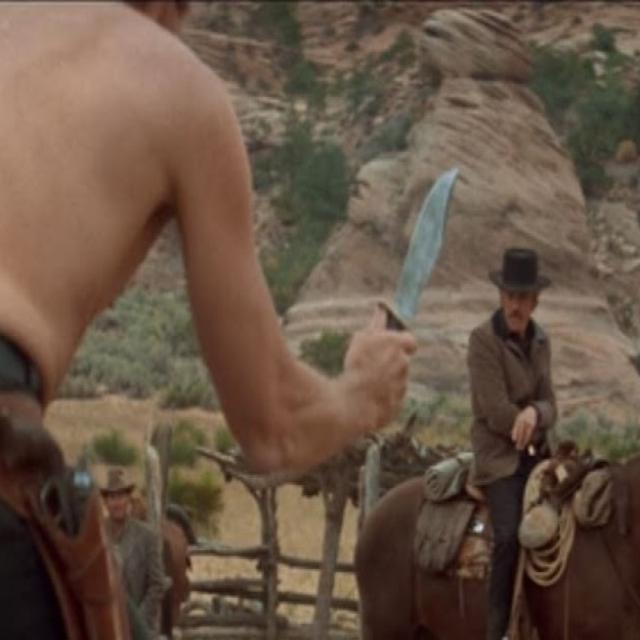knife: (392, 155, 465, 358)
